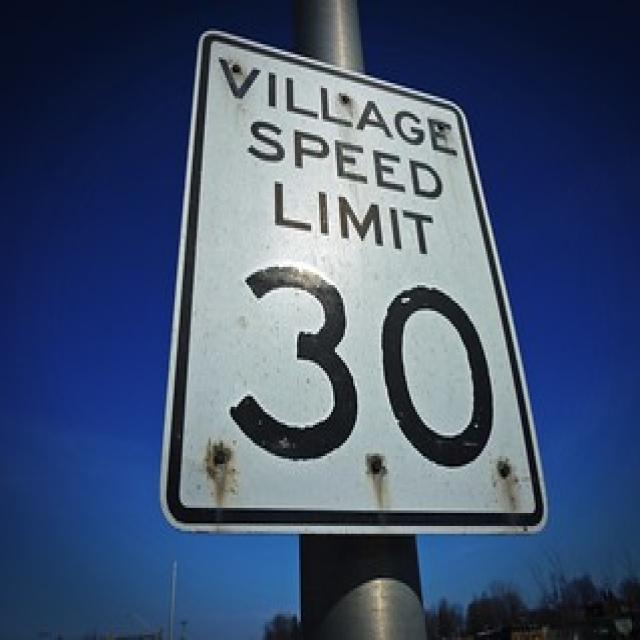speedLimit35: (165, 32, 542, 517)
